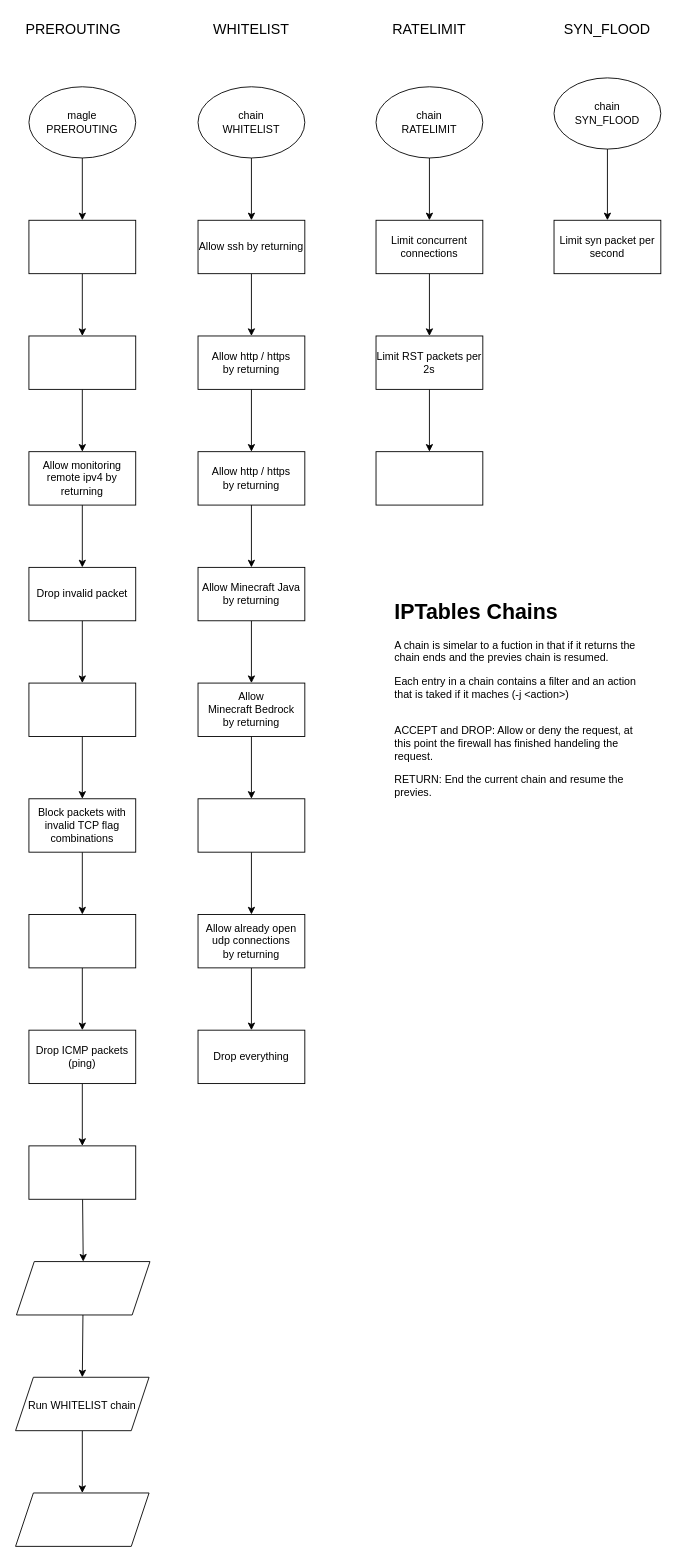
Some shapes in this 676 by 1562 pixel diagram are drawn without their labels. Here are the shapes that lost their labels. From the top down, the centre of each, then its label:
At (x=82, y=246): "Allow local and private interface by returning chain".
At (x=82, y=362): "Allow docker interfaces by returning".
At (x=429, y=478): "Limit NEW packets per 60s".
At (x=82, y=709): "Drop TCP packets that are new and are not SYN".
At (x=251, y=825): "Allow already open tcp connections by returning".
At (x=82, y=941): "Drop spoofed packets".
At (x=82, y=1172): "Drop fragments".
At (x=83, y=1288): "Run RATELIMIT chain".
At (x=82, y=1519): "Run SYN_FLOOD chain".
